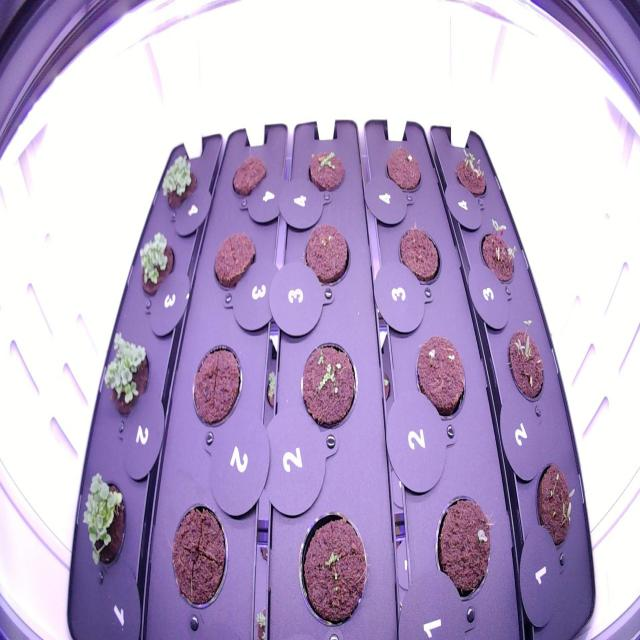germination: (295, 503, 372, 629), (427, 487, 496, 607), (295, 332, 360, 433), (74, 468, 132, 578), (409, 331, 469, 429), (97, 326, 153, 419), (530, 453, 578, 558), (503, 312, 548, 412), (476, 212, 521, 294), (133, 228, 179, 302), (156, 145, 202, 214), (380, 141, 426, 202), (302, 143, 349, 196), (451, 143, 490, 204)
pod: (165, 494, 231, 620), (188, 338, 245, 432), (299, 219, 353, 291), (208, 227, 259, 297), (393, 221, 444, 288), (228, 149, 268, 204)
